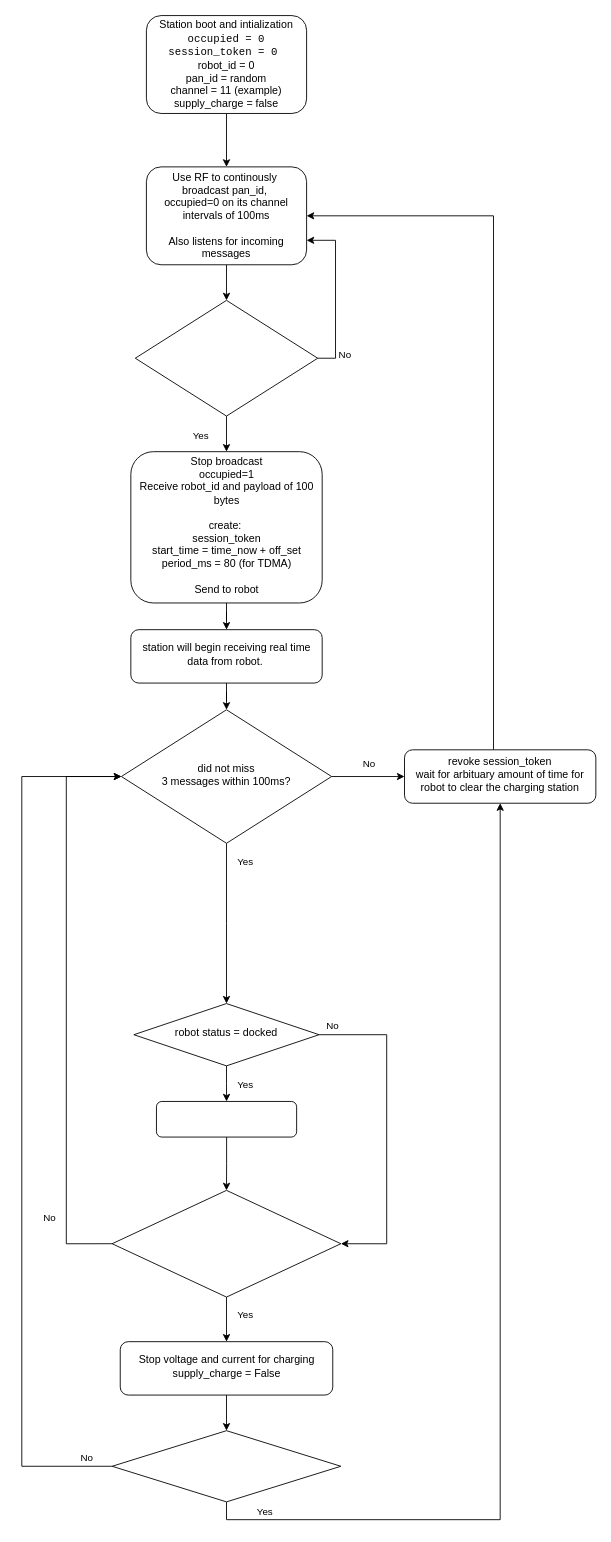
Some shapes in this 611 by 1542 pixel diagram are drawn without their labels. Here are the shapes that lost their labels. From the top down, the centre of each, then its label:
point (226, 357): Receive incoming message?
point (226, 1119): supply_charge = True
point (226, 1243): robot status = charging complete or robot status = undocking
point (226, 1466): Received bye message from robot
